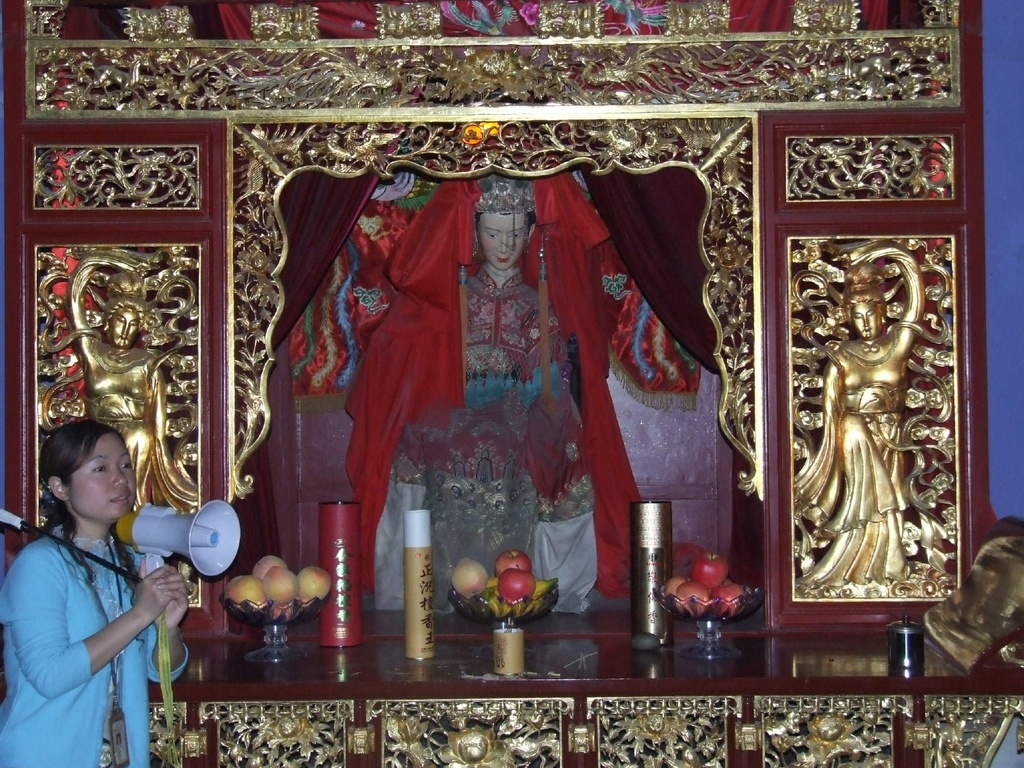Person: (345, 173, 612, 508), (0, 420, 192, 768), (802, 236, 925, 601), (59, 246, 163, 515)
